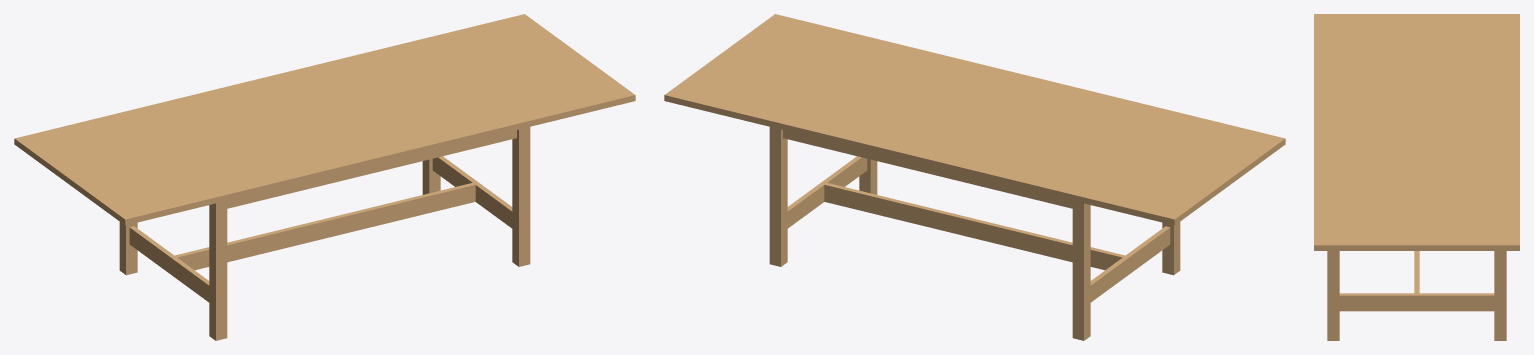
The picture shows the model from 3 angles, left to right: view 1: azimuth 30°, elevation 25°; view 2: azimuth 150°, elevation 25°; view 3: azimuth 270°, elevation 25°; orthographic projection. The views are drawn at different scales.
Parts seen in each view (by area): view 1: Mesh1 Group1 Table_Norden_IKEA1 Model, Mesh2 Group2 Table_Norden_IKEA1 Model, Mesh4 Table_Norden Table_Norden_IKEA1 Model, Mesh3 Group3 Table_Norden_IKEA1 Model; view 2: Mesh1 Group1 Table_Norden_IKEA1 Model, Mesh2 Group2 Table_Norden_IKEA1 Model, Mesh4 Table_Norden Table_Norden_IKEA1 Model, Mesh3 Group3 Table_Norden_IKEA1 Model; view 3: Mesh2 Group2 Table_Norden_IKEA1 Model, Mesh1 Group1 Table_Norden_IKEA1 Model, Mesh3 Group3 Table_Norden_IKEA1 Model, Mesh4 Table_Norden Table_Norden_IKEA1 Model.
Boxes of the visible parts, bbox=[...] form: Mesh1 Group1 Table_Norden_IKEA1 Model: bbox=[14, 87, 336, 225]; Mesh2 Group2 Table_Norden_IKEA1 Model: bbox=[314, 14, 635, 152]; Mesh4 Table_Norden Table_Norden_IKEA1 Model: bbox=[119, 127, 530, 340]; Mesh3 Group3 Table_Norden_IKEA1 Model: bbox=[226, 65, 424, 173]; Mesh1 Group1 Table_Norden_IKEA1 Model: bbox=[963, 87, 1285, 225]; Mesh2 Group2 Table_Norden_IKEA1 Model: bbox=[664, 14, 985, 152]; Mesh4 Table_Norden Table_Norden_IKEA1 Model: bbox=[769, 127, 1180, 340]; Mesh3 Group3 Table_Norden_IKEA1 Model: bbox=[875, 65, 1073, 173]; Mesh2 Group2 Table_Norden_IKEA1 Model: bbox=[1314, 149, 1519, 250]; Mesh1 Group1 Table_Norden_IKEA1 Model: bbox=[1314, 14, 1519, 109]; Mesh3 Group3 Table_Norden_IKEA1 Model: bbox=[1314, 109, 1519, 149]; Mesh4 Table_Norden Table_Norden_IKEA1 Model: bbox=[1327, 251, 1506, 340].
Size of the model in its own units: 0.905 by 0.2552 by 0.3402.
